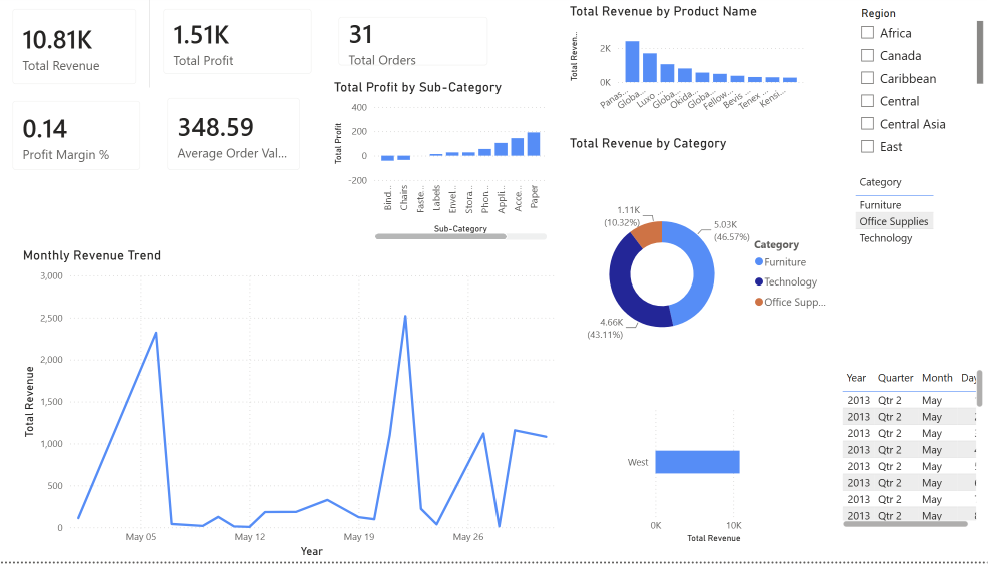

The dashboard page shown, as its layout file describes it:
{"tool":"powerbi","page":{"name":"Page 1","canvas":[1280,720],"ordinal":0},"visuals":[{"type":"cardVisual","fields":{"Data":["DateTable.Total Revenue"]},"box":[0,0,192.5,130],"z":0},{"type":"cardVisual","fields":{"Data":["DateTable.Total Profit"]},"box":[192.5,0,223.1,117.3],"z":1000},{"type":"cardVisual","fields":{"Data":["DateTable.Profit Margin %"]},"box":[0,117.3,197.6,122.4],"z":2000},{"type":"cardVisual","fields":{"Data":["DateTable.Total Orders"]},"box":[415.6,10.2,224.4,96.9],"z":3000},{"type":"cardVisual","fields":{"Data":["DateTable.Average Order Value"]},"box":[197.6,113.5,204,126.2],"z":4000},{"type":"lineChart","title":" Monthly Revenue Trend","fields":{"Category":["superstore.Order Date.Variation.Date Hierarchy.Year","superstore.Order Date.Variation.Date Hierarchy.Quarter","superstore.Order Date.Variation.Date Hierarchy.Month","superstore.Order Date.Variation.Date Hierarchy.Day"],"Y":["DateTable.Total Revenue"]},"box":[25.5,321.3,696.1,399],"z":5000},{"type":"clusteredBarChart","fields":{"Category":["superstore.Region"],"Y":["DateTable.Total Revenue"]},"box":[791.7,470.4,207.8,230.8],"z":6000},{"type":"donutChart","fields":{"Category":["superstore.Category"],"Y":["DateTable.Total Revenue"]},"box":[721.6,178.5,346.8,331.5],"z":7000},{"type":"clusteredColumnChart","fields":{"Category":["superstore.Product Name"],"Y":["DateTable.Total Revenue"]},"box":[721.6,10.2,308.5,149.2],"z":7001},{"type":"clusteredColumnChart","fields":{"Category":["superstore.Sub-Category"],"Y":["DateTable.Total Profit"]},"box":[422,107.1,280.5,209.1],"z":7002},{"type":"textbox","box":[1085,273,173,178],"z":7006},{"type":"slicer","fields":{"Values":["superstore.Region"]},"box":[1084.9,8.9,173.4,202.7],"z":7007},{"type":"tableEx","fields":{"Values":["superstore.Order Date.Variation.Date Hierarchy.Year","superstore.Order Date.Variation.Date Hierarchy.Quarter","superstore.Order Date.Variation.Date Hierarchy.Month","superstore.Order Date.Variation.Date Hierarchy.Day"]},"box":[1068.4,470.4,190,211.6],"z":7008},{"type":"tableEx","fields":{"Values":["superstore.Category"]},"box":[1084.9,221.8,173.4,211.6],"z":7009}]}

Visuals, with their boxes in screenshot pixels (x1, y1, x2, y2), scaled from the page's 1280x720 canvas onto the 988x568 screenshot:
cardVisual - DateTable.Total Revenue: box=[0, 0, 149, 103]
cardVisual - DateTable.Total Profit: box=[149, 0, 321, 93]
cardVisual - DateTable.Profit Margin %: box=[0, 93, 153, 189]
cardVisual - DateTable.Total Orders: box=[321, 8, 494, 84]
cardVisual - DateTable.Average Order Value: box=[153, 90, 310, 189]
" Monthly Revenue Trend" lineChart: box=[20, 253, 557, 567]
clusteredBarChart - superstore.Region x DateTable.Total Revenue: box=[611, 371, 771, 553]
donutChart - superstore.Category x DateTable.Total Revenue: box=[557, 141, 825, 402]
clusteredColumnChart - superstore.Product Name x DateTable.Total Revenue: box=[557, 8, 795, 126]
clusteredColumnChart - superstore.Sub-Category x DateTable.Total Profit: box=[326, 84, 542, 249]
textbox: box=[837, 215, 971, 356]
slicer - superstore.Region: box=[837, 7, 971, 167]
tableEx - superstore.Order Date.Variation.Date Hierarchy.Year x superstore.Order Date.Variation.Date Hierarchy.Quarter: box=[825, 371, 971, 538]
tableEx - superstore.Category: box=[837, 175, 971, 342]
